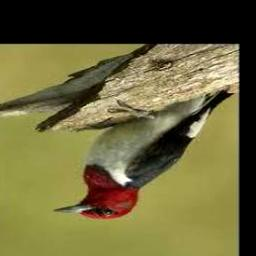Woodpecker: (53, 89, 234, 220)
